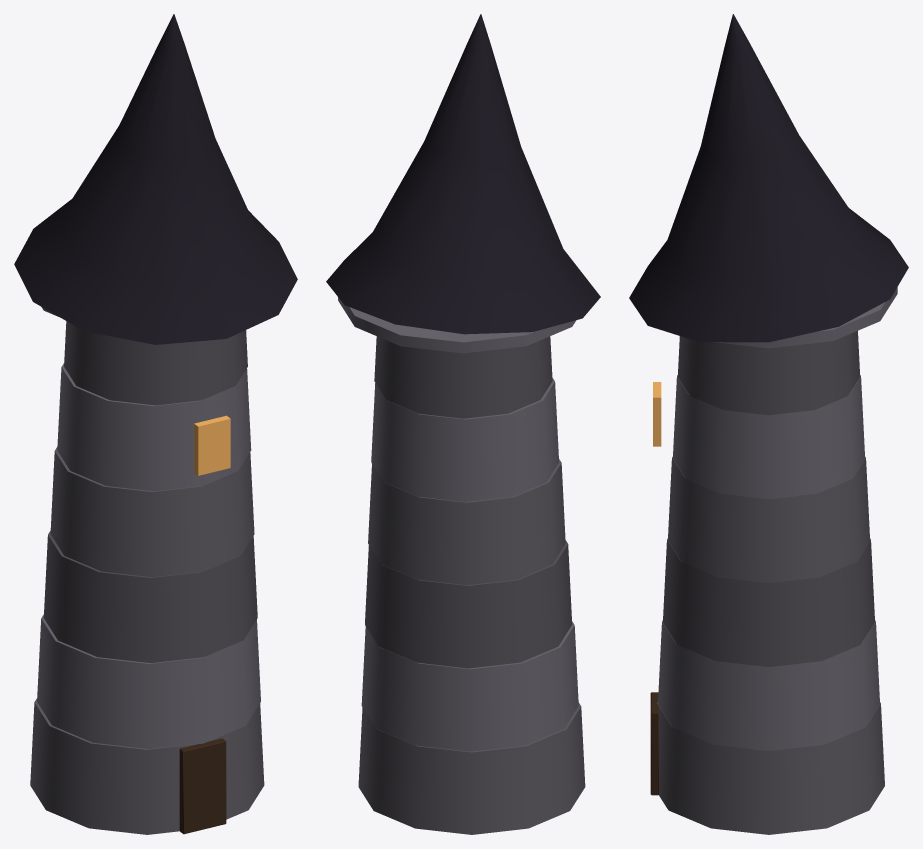
The model's file is witch_tower.glb.
The picture shows the model from 3 angles, left to right: view 1: azimuth 30°, elevation 25°; view 2: azimuth 150°, elevation 25°; view 3: azimuth 270°, elevation 25°; orthographic projection. The views are drawn at different scales.
Parts seen in each view (by area): view 1: witch_tower; view 2: witch_tower; view 3: witch_tower.
Part boxes in pixels (x1,y1,x2,y2): witch_tower: (14, 14, 297, 834); witch_tower: (326, 14, 600, 834); witch_tower: (629, 14, 908, 834).
Size of the model in its own units: 6.8 by 20.65 by 6.75.
